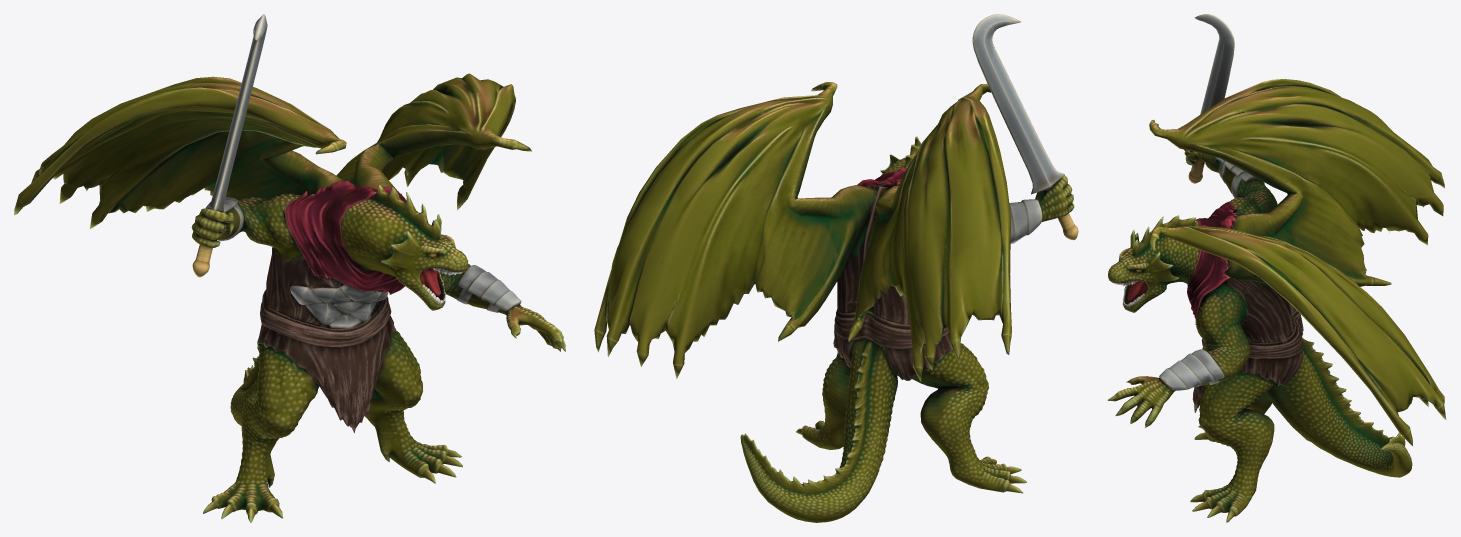
Rendered from MZ4250 - Draconian Foot Soldier 02.glb.
The picture shows the model from 3 angles, left to right: view 1: azimuth 30°, elevation 25°; view 2: azimuth 150°, elevation 25°; view 3: azimuth 270°, elevation 25°; orthographic projection. The views are drawn at different scales.
Visible parts, largest first — view 1: body_low.001, wings_low.001, sword_low.001; view 2: wings_low.001, body_low.001, sword_low.001; view 3: wings_low.001, body_low.001, sword_low.001.
Part boxes in pixels (bbox=[...]): body_low.001: bbox=[191, 180, 565, 522]; wings_low.001: bbox=[14, 73, 531, 231]; sword_low.001: bbox=[192, 14, 267, 277]; wings_low.001: bbox=[594, 82, 1011, 381]; body_low.001: bbox=[740, 136, 1074, 522]; sword_low.001: bbox=[972, 14, 1078, 240]; wings_low.001: bbox=[1149, 79, 1446, 446]; body_low.001: bbox=[1107, 149, 1412, 522]; sword_low.001: bbox=[1188, 14, 1234, 183].
Bounding box in the file's own units: 6.08 × 6.42 × 4.65.
1 material, 1 textured.
